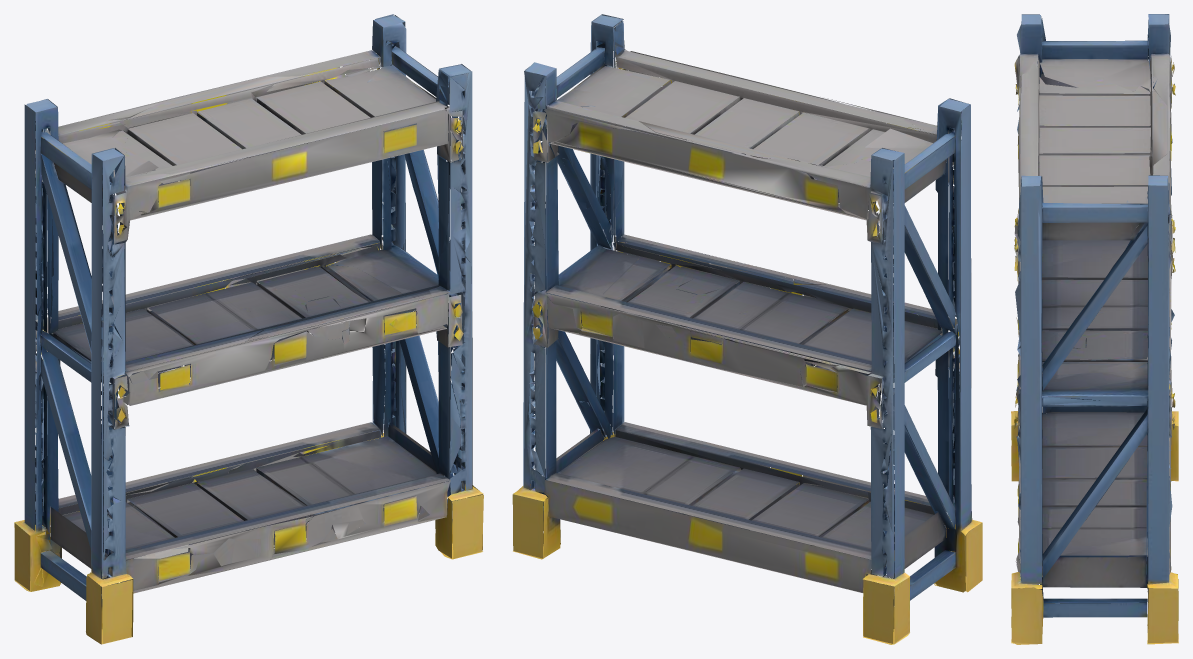
Rendered from storage_rack.glb.
3 renders of one model, left to right at view 1: azimuth 30°, elevation 25°; view 2: azimuth 150°, elevation 25°; view 3: azimuth 270°, elevation 25°, orthographic. The views are drawn at different scales.
Visible parts, largest first — view 1: Industrial_storage_rack; view 2: Industrial_storage_rack; view 3: Industrial_storage_rack.
Part boxes in pixels (x1,y1,x2,y2): Industrial_storage_rack: (14, 14, 483, 644); Industrial_storage_rack: (512, 14, 982, 644); Industrial_storage_rack: (1011, 14, 1178, 644).
Size of the model in its own units: 2 by 2.4 by 0.7978.
Materials: 1 (1 with a texture image).
